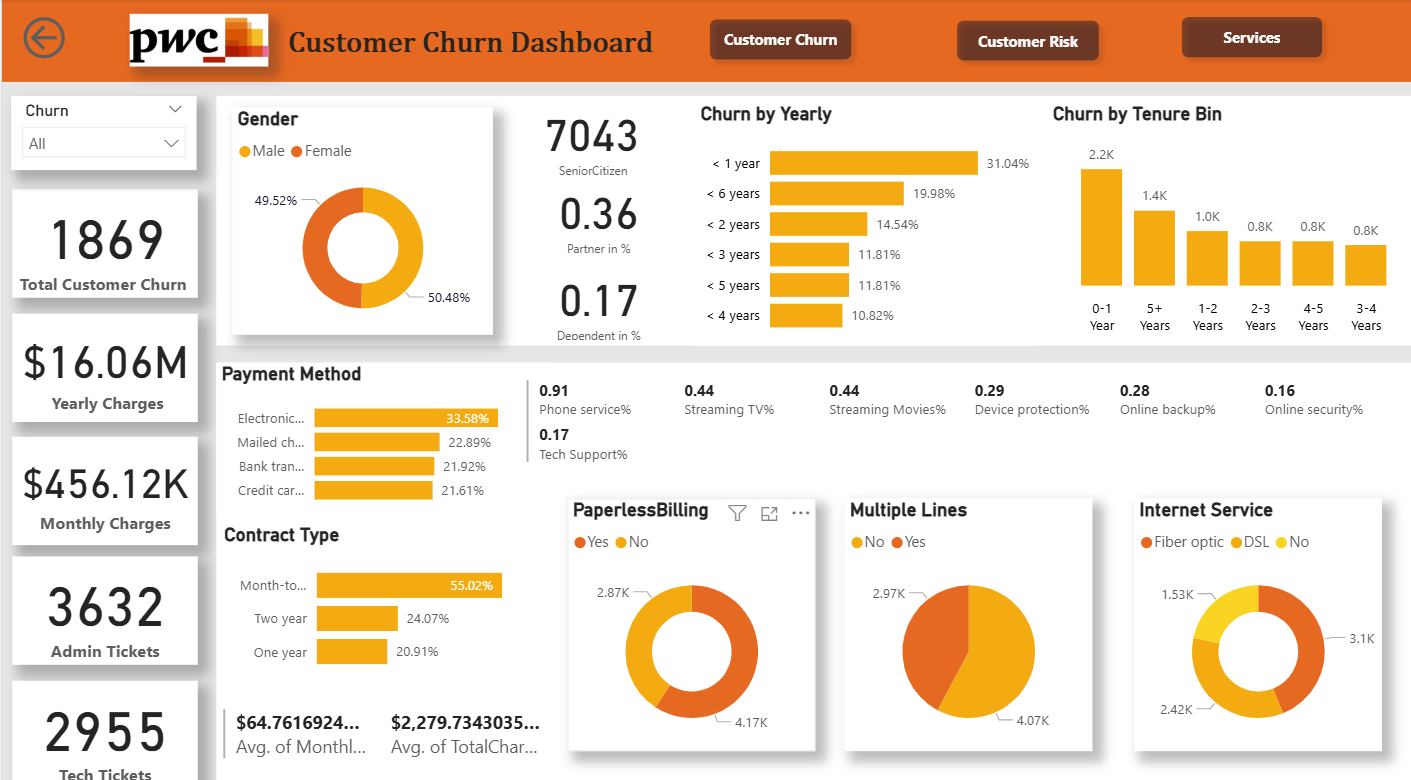

Layout of this report page (visuals, bound fields, positions):
{"tool":"powerbi","page":{"name":"Customer churn dashboard","canvas":[1280,720],"ordinal":1},"visuals":[{"type":"shape","box":[0,0,1279.9,74.5],"z":0},{"type":"card","fields":{"Values":["01 Churn-Dataset.churn count"]},"box":[9.5,171,167,97.6],"z":1000},{"type":"card","fields":{"Values":["Sum(01 Churn-Dataset.TotalCharges)"]},"box":[9.5,283,167,97.6],"z":2000},{"type":"card","fields":{"Values":["Sum(01 Churn-Dataset.MonthlyCharges)"]},"box":[9.5,393,166.6,97.6],"z":3000},{"type":"card","fields":{"Values":["Sum(01 Churn-Dataset.numAdminTickets)"]},"box":[9.5,501,166.6,97.6],"z":4000},{"type":"card","fields":{"Values":["Sum(01 Churn-Dataset.numTechTickets)"]},"box":[9.5,612.9,166.6,97.6],"z":5000},{"type":"shape","box":[192.9,87.1,1077.1,224.3],"z":6000},{"type":"donutChart","title":"Gender","fields":{"Category":["01 Churn-Dataset.gender"],"Y":["CountNonNull(01 Churn-Dataset.gender)"]},"box":[207.1,97.1,234.3,204.3],"z":7000},{"type":"card","fields":{"Values":["CountNonNull(01 Churn-Dataset.SeniorCitizen)"]},"box":[477.1,87.1,104.3,75.7],"z":8000},{"type":"clusteredBarChart","title":" Churn by Yearly","fields":{"Category":["01 Churn-Dataset.loyalty"],"Y":["Divide(CountNonNull(01 Churn-Dataset.Churn), ScopedEval(CountNonNull(01 Churn-Dataset.Churn), []))"]},"box":[623.2,93.4,306.3,218.2],"z":9000},{"type":"card","fields":{"Values":["01 Churn-Dataset.Partner in %"]},"box":[477.1,157.1,117.1,77.1],"z":10000},{"type":"card","fields":{"Values":["01 Churn-Dataset.Dependent in %"]},"box":[477.1,234.3,117.1,77.1],"z":11000},{"type":"actionButton","box":[626.8,8.8,145.5,54.3],"z":12000,"group":"g1"},{"type":"shape","box":[192.9,327.1,1077.1,382.9],"z":12000},{"type":"actionButton","box":[849.1,10.3,145.5,54.3],"z":13000,"group":"g1"},{"type":"barChart","title":" Payment Method","fields":{"Category":["01 Churn-Dataset.PaymentMethod"],"Y":["CountNonNull(01 Churn-Dataset.PaymentMethod)"]},"box":[192.9,327.1,301.4,137.1],"z":13000},{"type":"actionButton","box":[1050.9,6.8,144.4,54.3],"z":14000,"group":"g1"},{"type":"barChart","title":" Contract Type","fields":{"Category":["01 Churn-Dataset.Contract"],"Y":["CountNonNull(01 Churn-Dataset.Contract)"]},"box":[194.3,471.4,300,144.3],"z":14000},{"type":"multiRowCard","fields":{"Values":["Avg(01 Churn-Dataset.MonthlyCharges)","Avg(01 Churn-Dataset.TotalCharges)"]},"box":[194,633.1,299.9,65.5],"z":15000},{"type":"multiRowCard","fields":{"Values":["01 Churn-Dataset.Phone service in %","01 Churn-Dataset.Streaming TV in %","01 Churn-Dataset.Streaming Movies in %","01 Churn-Dataset.Device protection in %","01 Churn-Dataset.Online backup in %","01 Churn-Dataset.Online security in %","01 Churn-Dataset.Tech Support in %"]},"box":[465.7,337.1,804.3,97.1],"z":16000},{"type":"donutChart","title":" PaperlessBilling","fields":{"Category":["01 Churn-Dataset.PaperlessBilling"],"Y":["CountNonNull(01 Churn-Dataset.PaperlessBilling)"]},"box":[508.6,448.6,222.9,227.1],"z":17000},{"type":"pieChart","title":" Multiple Lines","fields":{"Category":["01 Churn-Dataset.MultipleLines"],"Y":["CountNonNull(01 Churn-Dataset.MultipleLines)"]},"box":[757.1,448.6,222.9,227.1],"z":18000},{"type":"donutChart","title":" Internet Service","fields":{"Category":["01 Churn-Dataset.InternetService"],"Y":["CountNonNull(01 Churn-Dataset.InternetService)"]},"box":[1017.1,448.6,222.9,227.1],"z":19000},{"type":"slicer","fields":{"Values":["01 Churn-Dataset.Churn"]},"box":[8.3,86.9,166.6,67],"z":20000},{"type":"actionButton","box":[13.3,10,51.7,48.3],"z":25000},{"type":"textbox","box":[252.4,19.3,366.7,48.3],"z":26000},{"type":"image","box":[114.4,13.6,124.8,47.2],"z":27000},{"type":"clusteredColumnChart","title":"Churn by Tenure Bin","fields":{"Category":["01 Churn-Dataset.Tenure Bin"],"Y":["CountNonNull(01 Churn-Dataset.Churn)"]},"box":[939,93.4,329.4,215.1],"z":28000},{"type":"group","id":"g1","title":"Group 1","box":[626.8,6.8,568.5,57.8],"z":28001}]}

Visuals, with their boxes in screenshot pixels (x1, y1, x2, y2), scaled from the page's 1280x720 canvas onto the 1411x780 screenshot:
shape: [x1=0, y1=0, x2=1410, y2=81]
card - 01 Churn-Dataset.churn count: [x1=10, y1=185, x2=195, y2=291]
card - Sum(01 Churn-Dataset.TotalCharges): [x1=10, y1=307, x2=195, y2=412]
card - Sum(01 Churn-Dataset.MonthlyCharges): [x1=10, y1=426, x2=194, y2=531]
card - Sum(01 Churn-Dataset.numAdminTickets): [x1=10, y1=543, x2=194, y2=648]
card - Sum(01 Churn-Dataset.numTechTickets): [x1=10, y1=664, x2=194, y2=770]
shape: [x1=213, y1=94, x2=1400, y2=337]
"Gender" donutChart: [x1=228, y1=105, x2=487, y2=327]
card - CountNonNull(01 Churn-Dataset.SeniorCitizen): [x1=526, y1=94, x2=641, y2=176]
" Churn by Yearly" clusteredBarChart: [x1=687, y1=101, x2=1025, y2=338]
card - 01 Churn-Dataset.Partner in %: [x1=526, y1=170, x2=655, y2=254]
card - 01 Churn-Dataset.Dependent in %: [x1=526, y1=254, x2=655, y2=337]
actionButton: [x1=691, y1=10, x2=851, y2=68]
shape: [x1=213, y1=354, x2=1400, y2=769]
actionButton: [x1=936, y1=11, x2=1096, y2=70]
" Payment Method" barChart: [x1=213, y1=354, x2=545, y2=503]
actionButton: [x1=1158, y1=7, x2=1318, y2=66]
" Contract Type" barChart: [x1=214, y1=511, x2=545, y2=667]
multiRowCard - Avg(01 Churn-Dataset.MonthlyCharges) x Avg(01 Churn-Dataset.TotalCharges): [x1=214, y1=686, x2=544, y2=757]
multiRowCard - 01 Churn-Dataset.Phone service in % x 01 Churn-Dataset.Streaming TV in %: [x1=513, y1=365, x2=1400, y2=470]
" PaperlessBilling" donutChart: [x1=561, y1=486, x2=806, y2=732]
" Multiple Lines" pieChart: [x1=835, y1=486, x2=1080, y2=732]
" Internet Service" donutChart: [x1=1121, y1=486, x2=1367, y2=732]
slicer - 01 Churn-Dataset.Churn: [x1=9, y1=94, x2=193, y2=167]
actionButton: [x1=15, y1=11, x2=72, y2=63]
textbox: [x1=278, y1=21, x2=682, y2=73]
image: [x1=126, y1=15, x2=264, y2=66]
"Churn by Tenure Bin" clusteredColumnChart: [x1=1035, y1=101, x2=1398, y2=334]
"Group 1" group: [x1=691, y1=7, x2=1318, y2=70]
